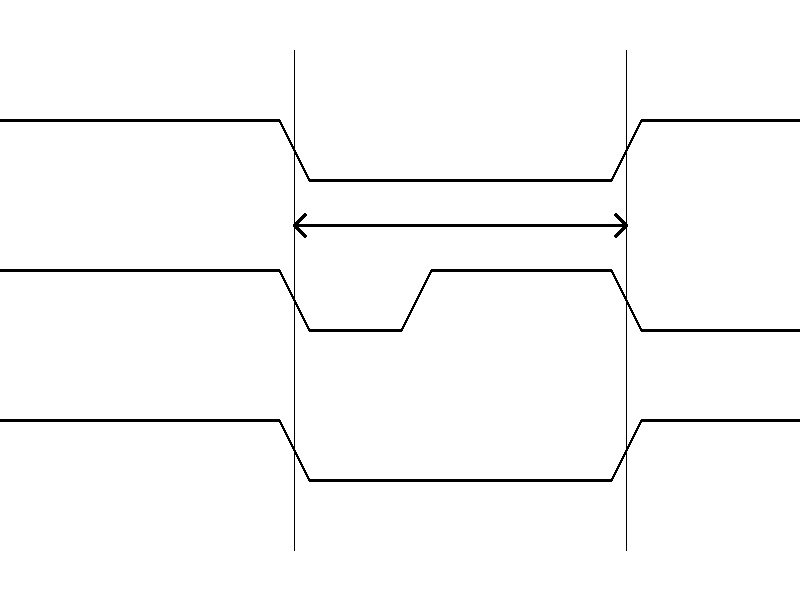double_arrow: (294, 210, 626, 240)
